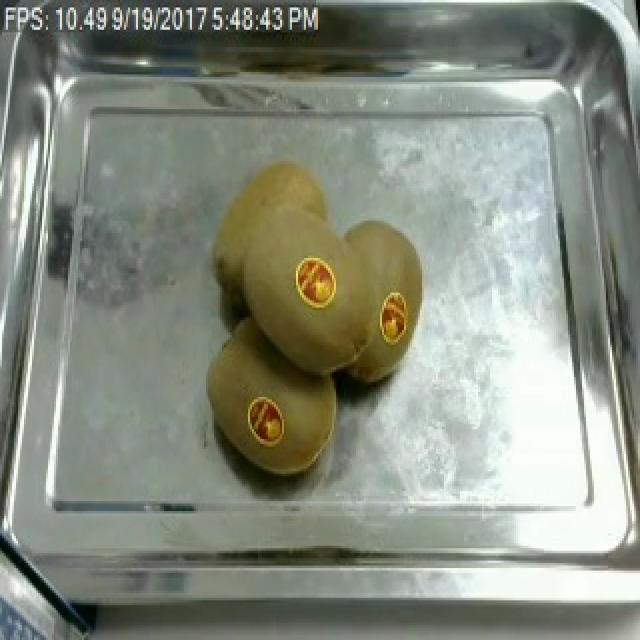Fruit: (210, 196, 438, 389), (200, 312, 348, 483)
